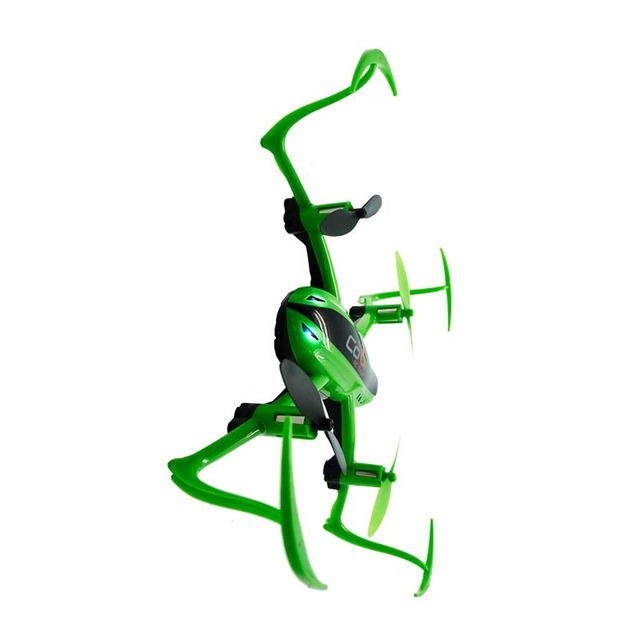drone: (166, 49, 457, 597)
